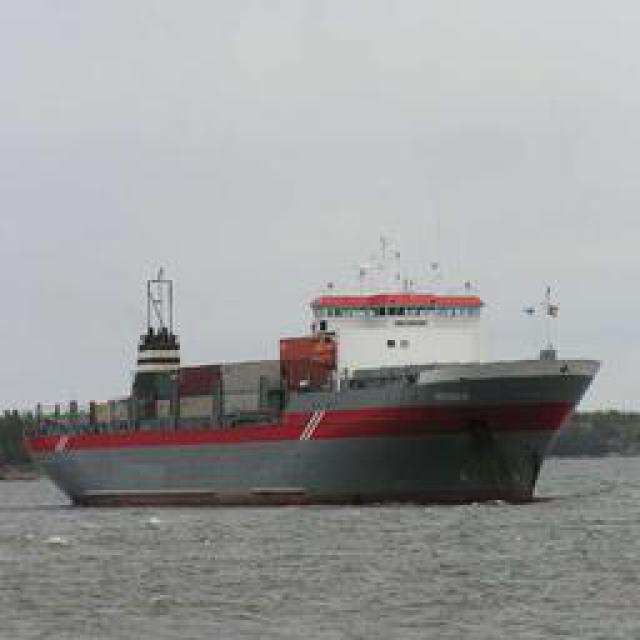Ship: (33, 252, 598, 515)
